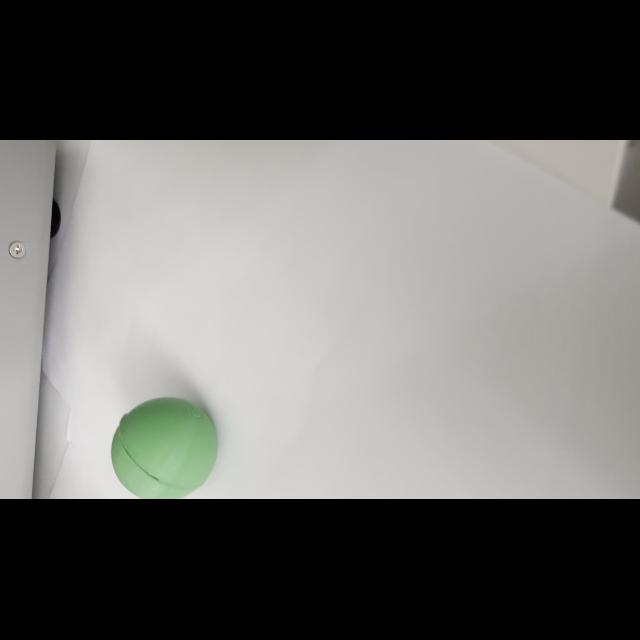objects: (107, 393, 221, 499)
